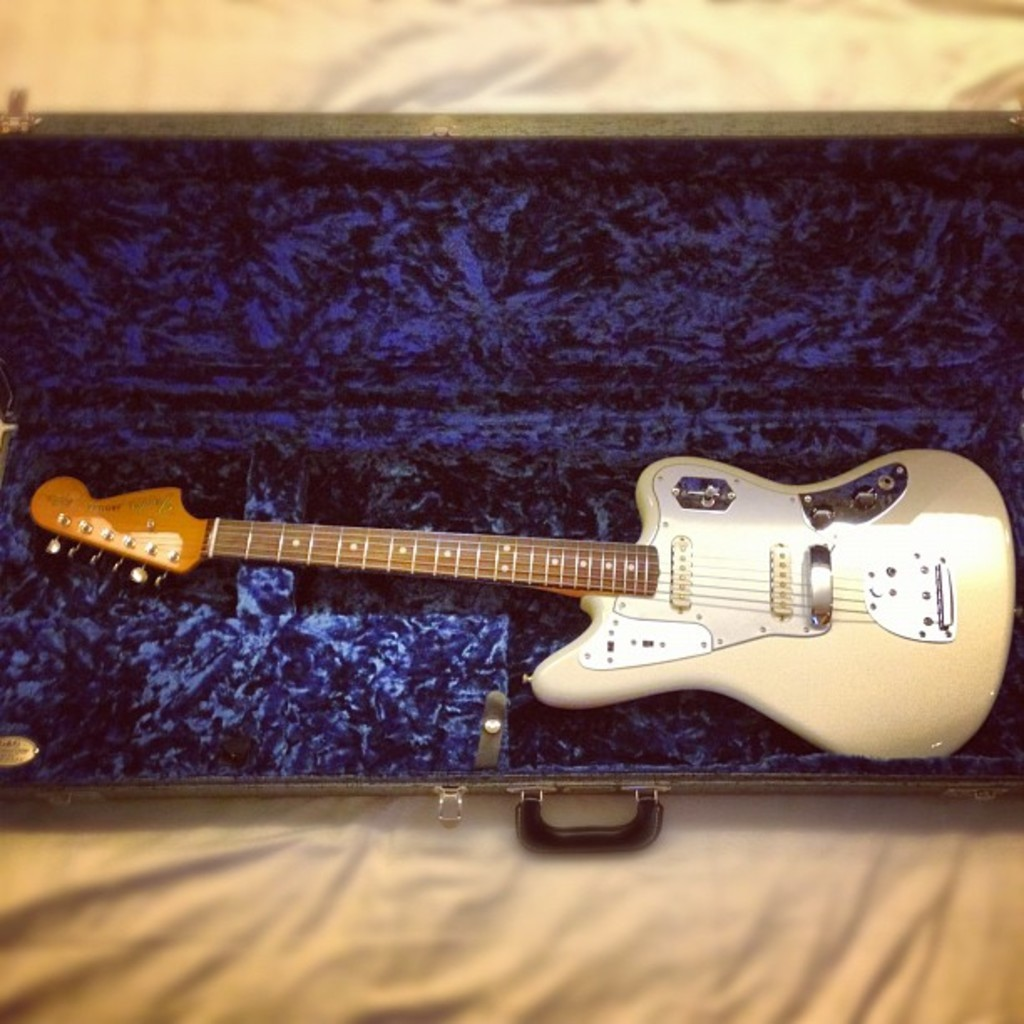guitar: (30, 449, 1015, 761)
